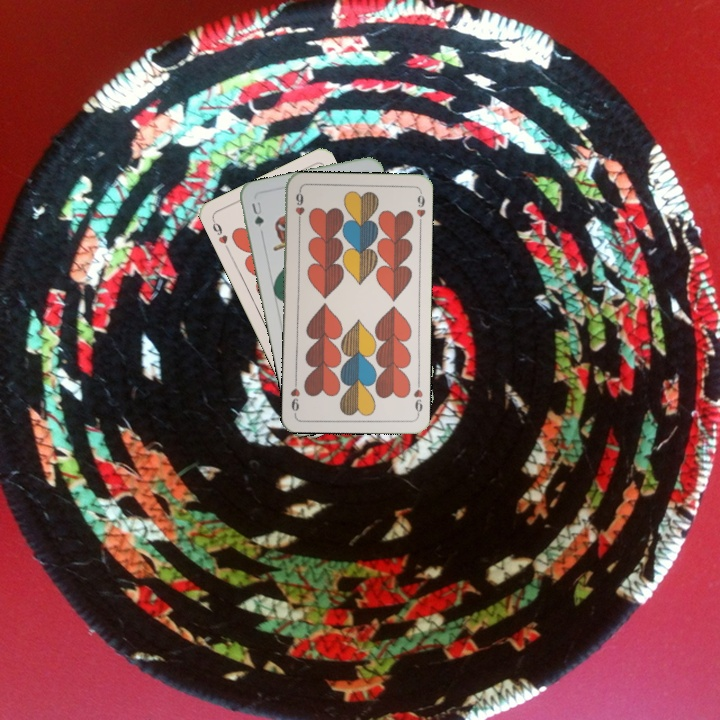GU: (247, 197, 266, 230)
H9: (208, 215, 232, 253), (291, 187, 307, 227), (410, 377, 425, 418)
